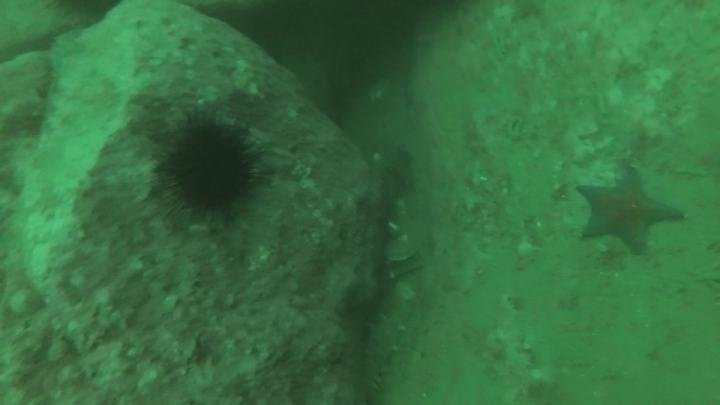echinus: (157, 115, 265, 224)
holothurian: (354, 285, 417, 403), (431, 196, 485, 297), (456, 15, 517, 79)
starfish: (573, 163, 688, 257)
